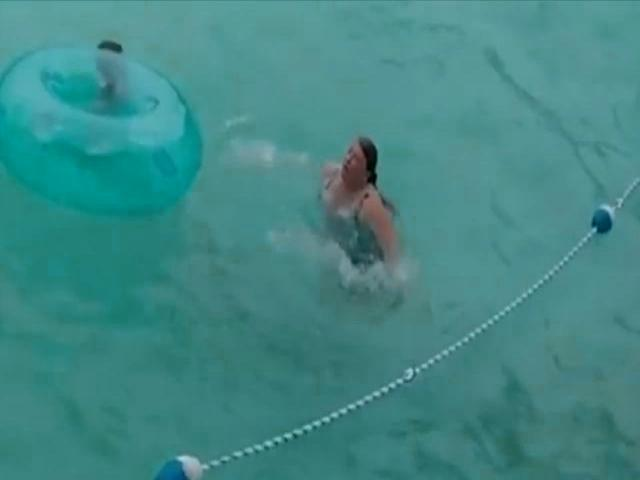swimming: (285, 95, 430, 309)
